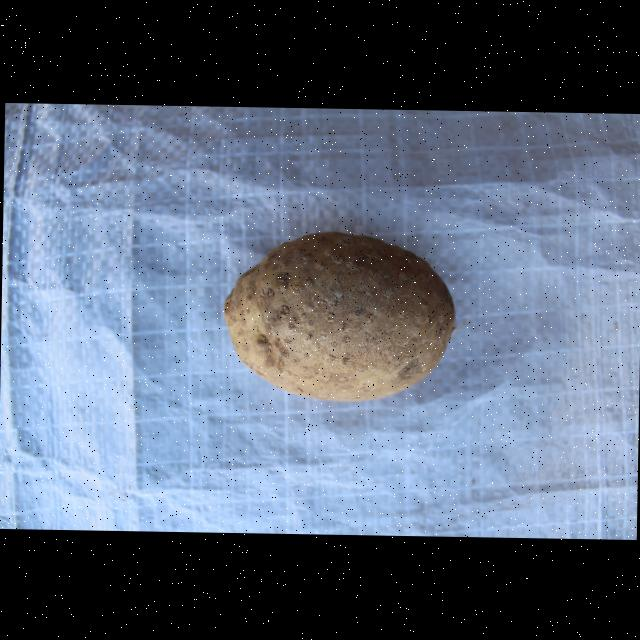Diseased-fungal potato: (217, 227, 458, 406)
